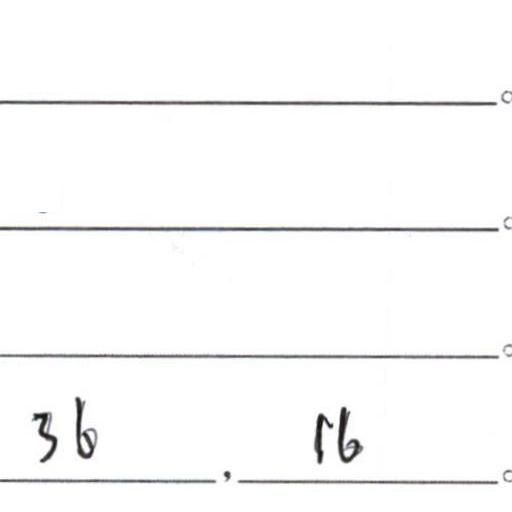ans: (25, 390, 97, 464), (307, 401, 364, 468)
